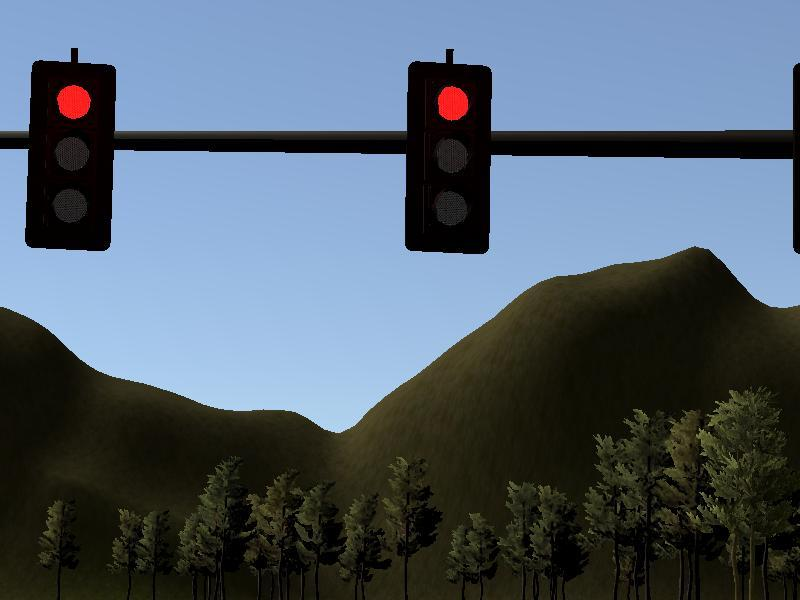Red: (406, 63, 490, 255), (29, 62, 111, 250)
